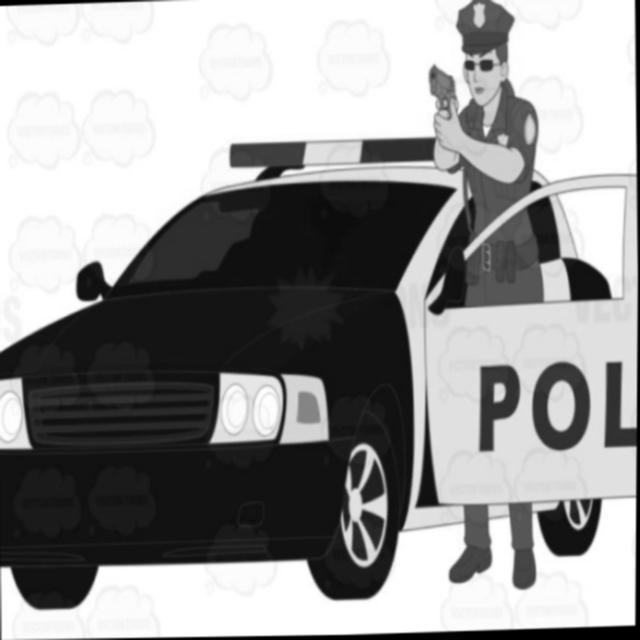weapon: (424, 59, 461, 121)
